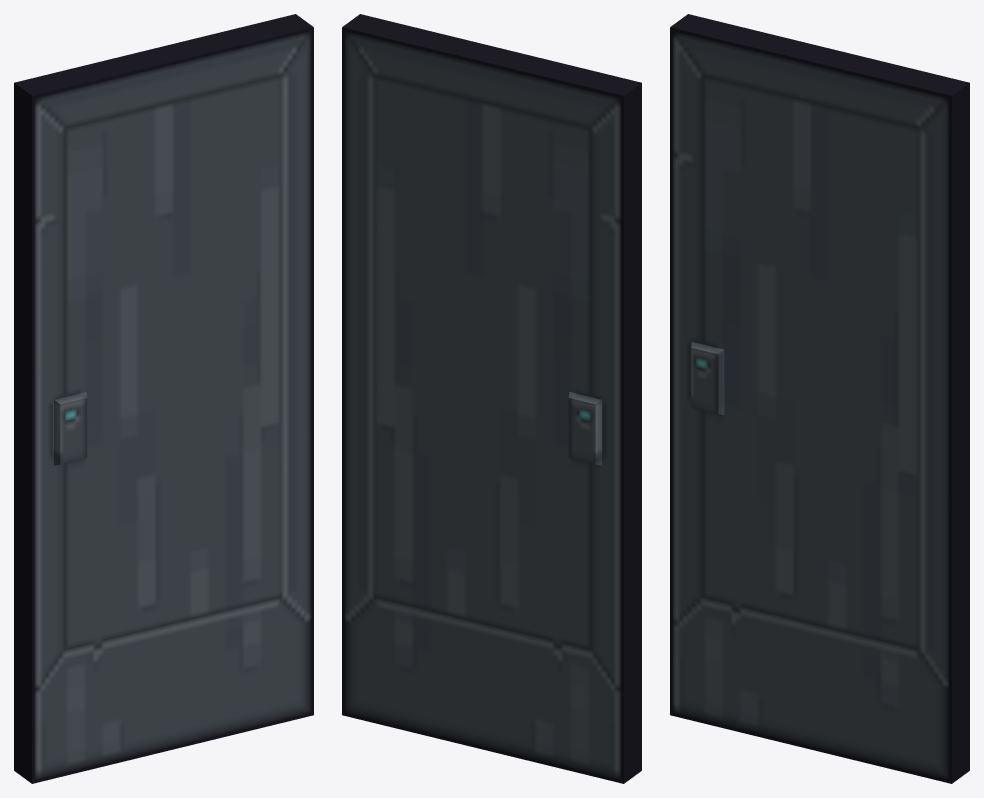
The model's file is obj_Door_Metal01.FBX.
3 views of the same model, side by side, from view 1: azimuth 30°, elevation 25°; view 2: azimuth 150°, elevation 25°; view 3: azimuth 330°, elevation 25° (orthographic).
Parts seen in each view (by area): view 1: Box001; view 2: Box001; view 3: Box001.
Part boxes in pixels (box(x1,y1,x2,y2)): Box001: box(14, 14, 313, 783); Box001: box(342, 14, 641, 783); Box001: box(670, 14, 969, 783).
Size of the model in its own units: 90 by 210 by 13.87.
1 material, 1 textured.
